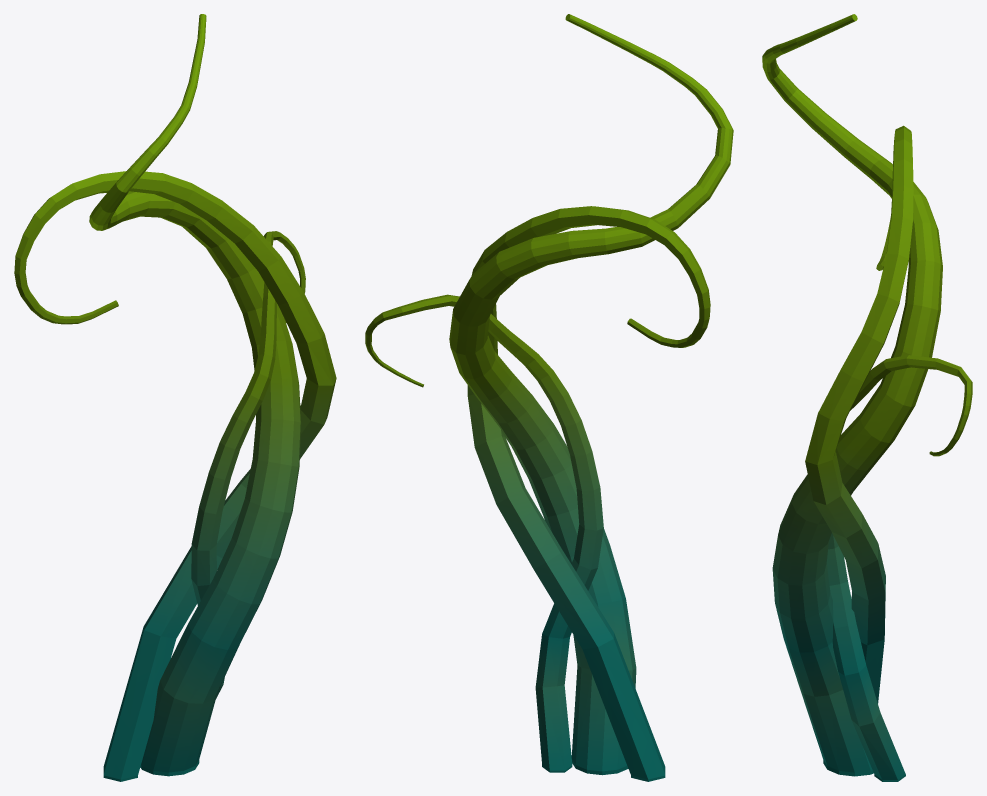
Rendered from Vine_2.fbx.
3 views of the same model, side by side, from view 1: azimuth 30°, elevation 25°; view 2: azimuth 150°, elevation 25°; view 3: azimuth 270°, elevation 25° (orthographic). The views are drawn at different scales.
Visible parts, largest first — view 1: Vine_2; view 2: Vine_2; view 3: Vine_2.
Boxes of the visible parts, bbox=[...] form: Vine_2: bbox=[14, 14, 336, 781]; Vine_2: bbox=[365, 14, 733, 781]; Vine_2: bbox=[762, 14, 972, 781].
Size of the model in its own units: 55.01 by 123 by 30.64.
